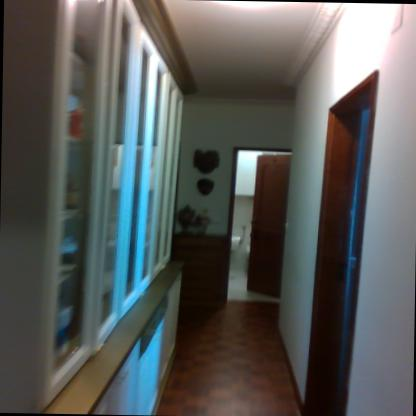semi: (221, 138, 302, 320)
